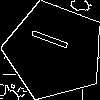I: (29, 26, 79, 56)
